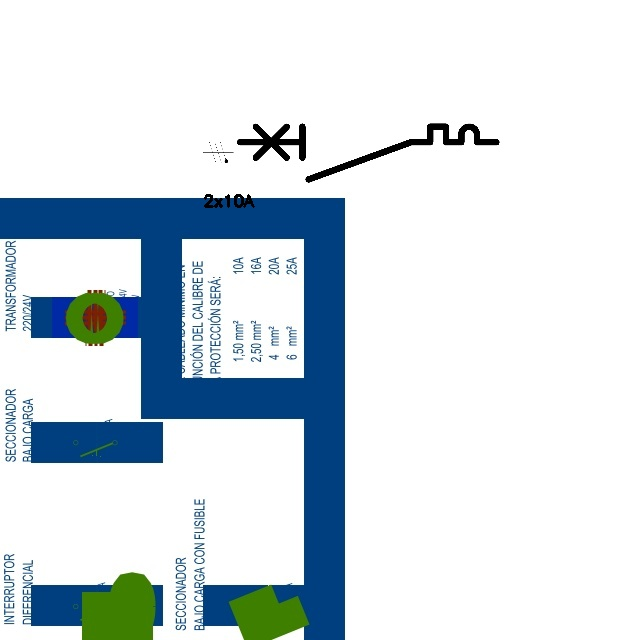interruptor_termomagnetico: (233, 120, 502, 186)
